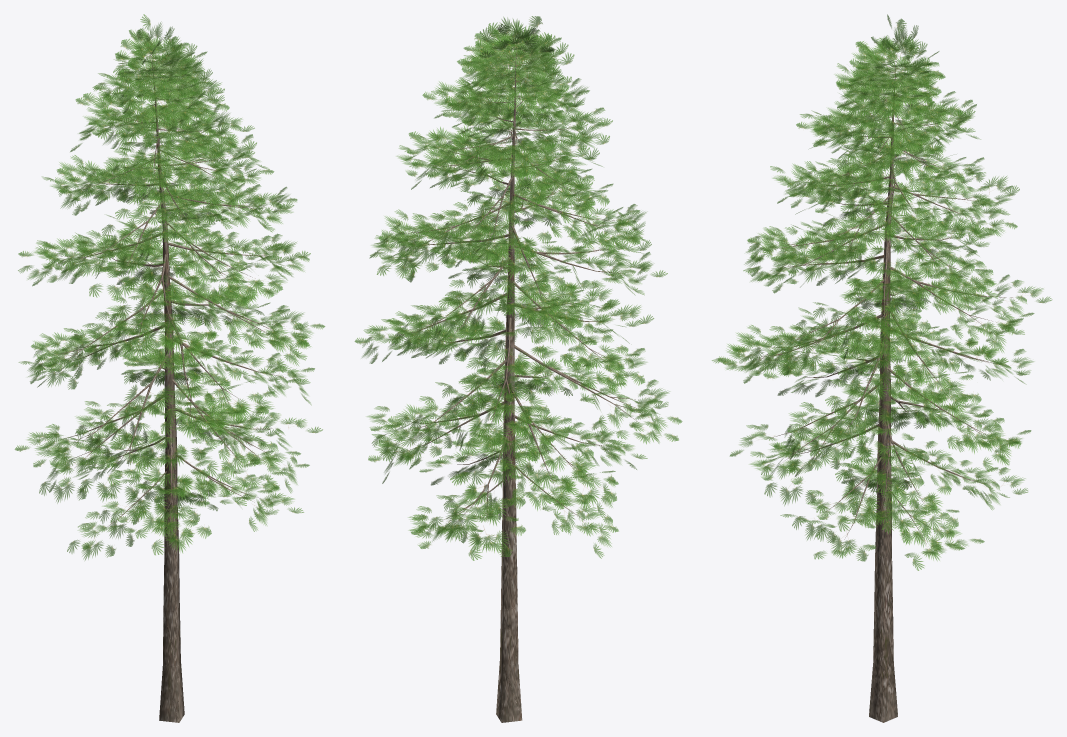
File: Fir.fbx
3 views of the same model, side by side, from view 1: azimuth 30°, elevation 25°; view 2: azimuth 150°, elevation 25°; view 3: azimuth 270°, elevation 25° (orthographic). The views are drawn at different scales.
Parts seen in each view (by area): view 1: leaves, Fir; view 2: leaves, Fir; view 3: leaves, Fir.
Part boxes in pixels (x1,y1,x2,y2): leaves: (15,14,325,560); Fir: (53,56,285,722); leaves: (354,16,682,560); Fir: (395,47,638,722); leaves: (712,14,1052,570); Fir: (757,57,1012,722).
Size of the model in its own units: 957 by 2168 by 976.
Materials: 2 (2 with a texture image).
